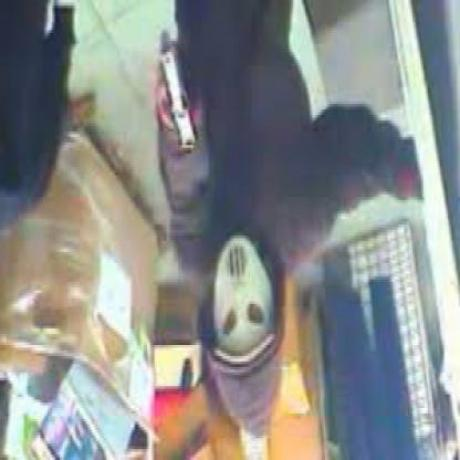1: (155, 0, 433, 439)
weapon: (152, 32, 202, 154)
